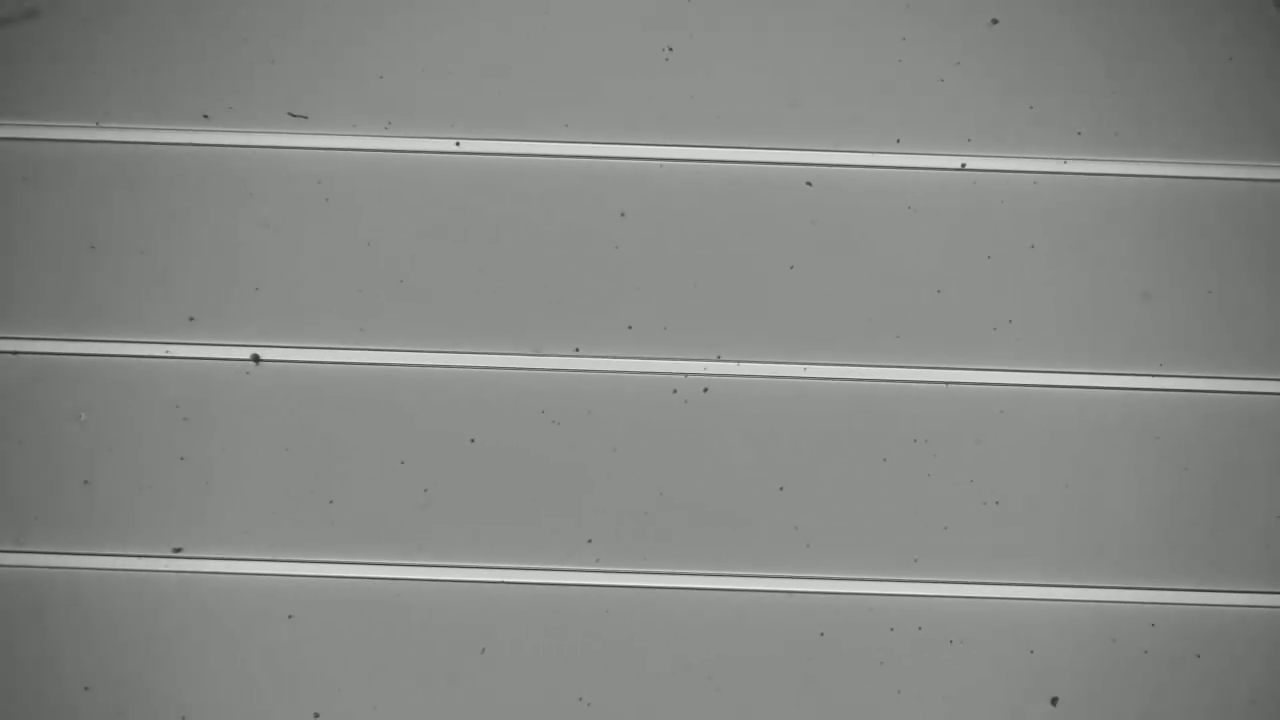stains_enbedded: (247, 338, 267, 374)
